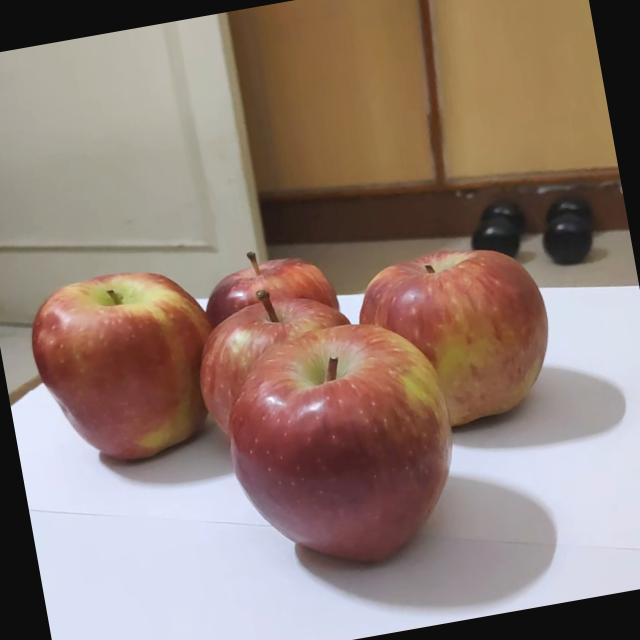apple: (205, 304, 478, 588), (346, 222, 572, 439), (20, 255, 237, 478), (182, 270, 374, 463), (194, 234, 356, 393)
